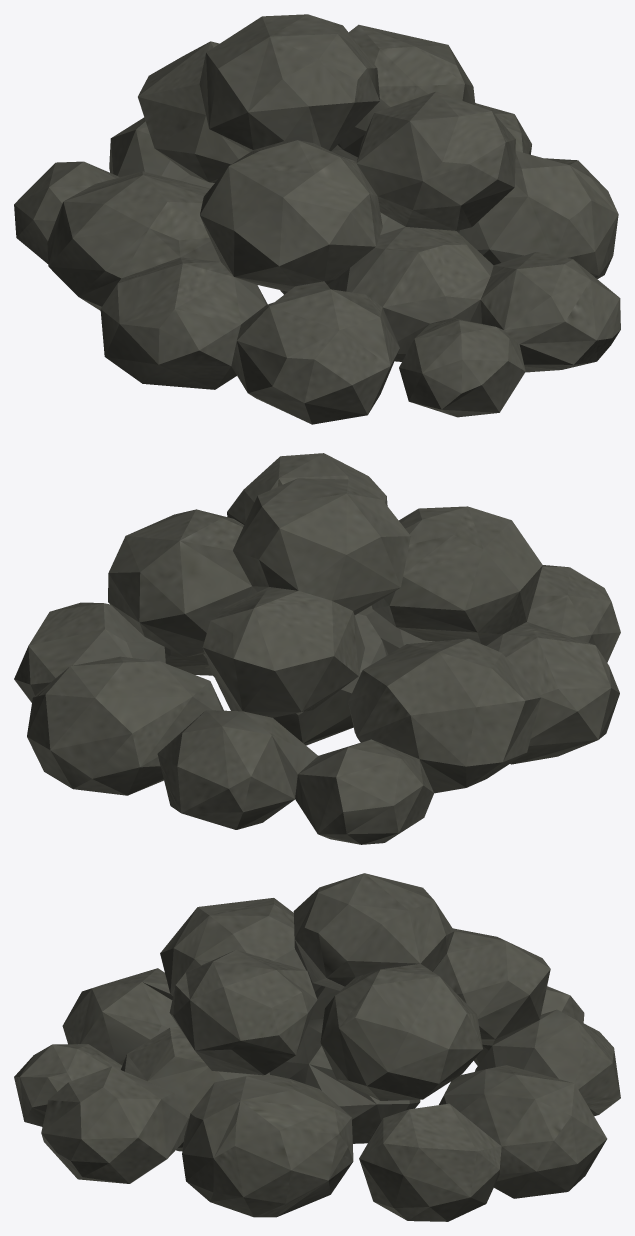
The model's file is DR_Clinker.fbx.
3 renders of one model, top to bottom at view 1: azimuth 30°, elevation 25°; view 2: azimuth 150°, elevation 25°; view 3: azimuth 270°, elevation 25°, orthographic. The views are drawn at different scales.
Parts seen in each view (by area): view 1: part; view 2: part; view 3: part.
Part boxes in pixels (left/top/right/bottom): part: left=14, top=14, right=620, bottom=424; part: left=14, top=453, right=620, bottom=844; part: left=14, top=873, right=620, bottom=1221.
Bounding box in the file's own units: 15.55 × 7.96 × 17.99.
